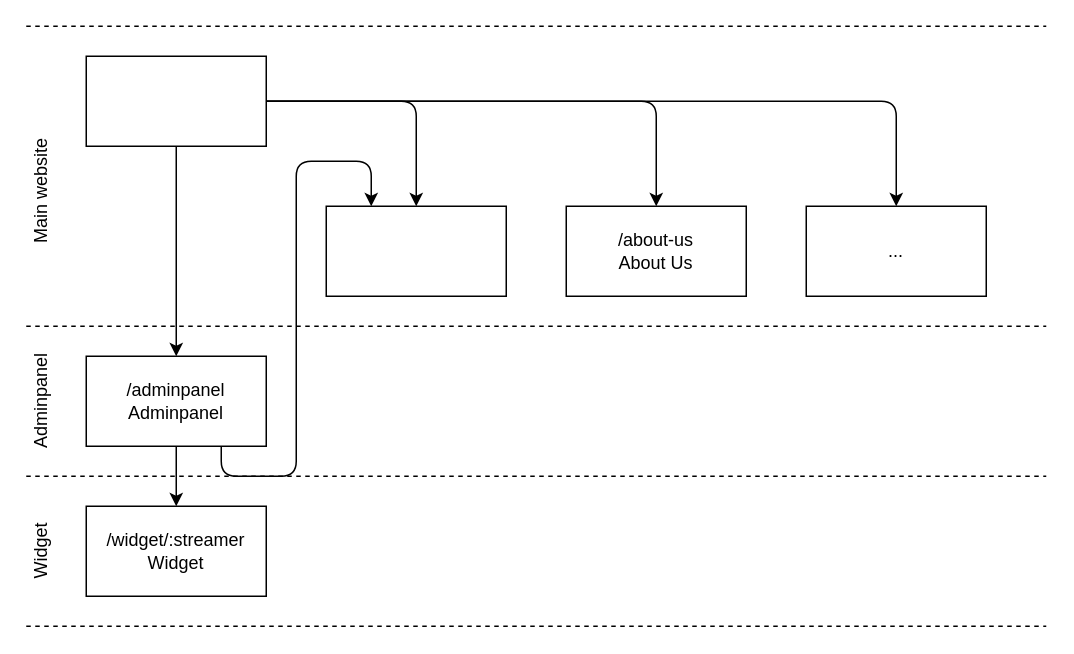
Some shapes in this 1074 by 654 pixel diagram are drawn without their labels. Each missing label, with the box of its shape:
'/' Home Page: (85, 55, 266, 146)
/challenge/:streamer Donation Page (Challenge): (325, 205, 506, 296)
